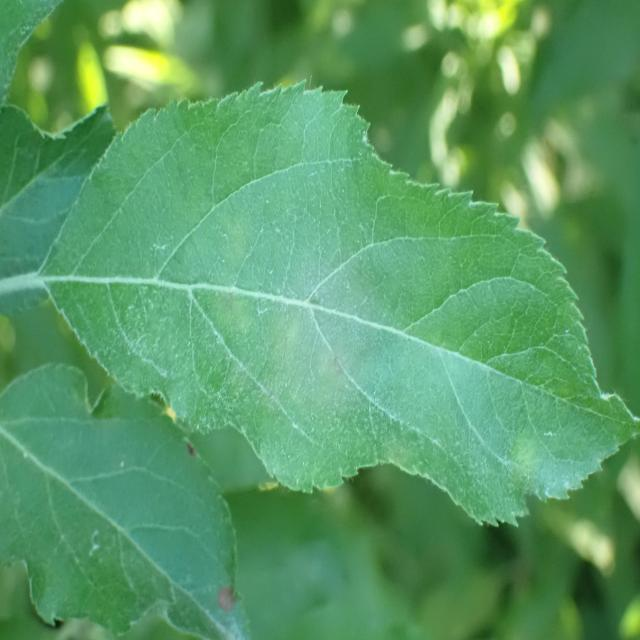scab: (73, 174, 605, 506)
